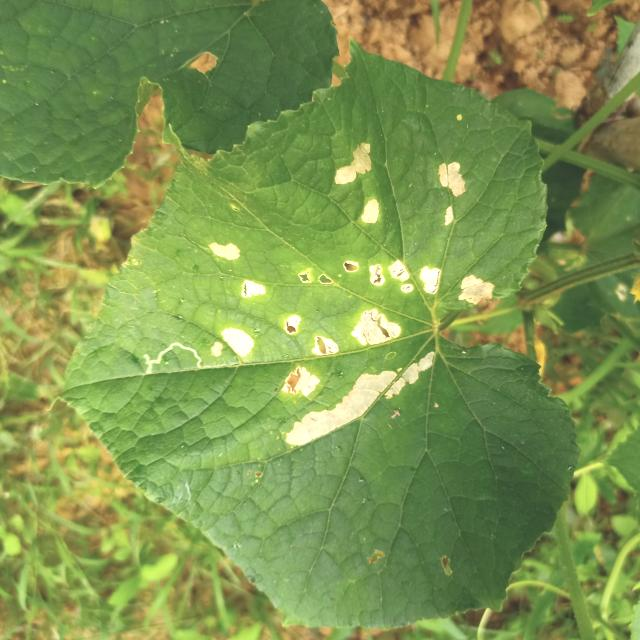disease_cucumber: (277, 306, 438, 446), (298, 253, 497, 308), (208, 239, 268, 360), (334, 138, 381, 227), (436, 158, 467, 228)
